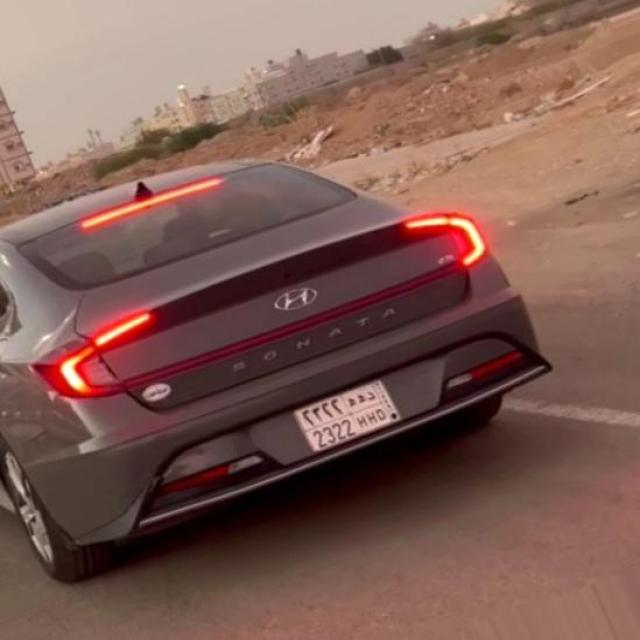Car-plate: (287, 364, 418, 460)
